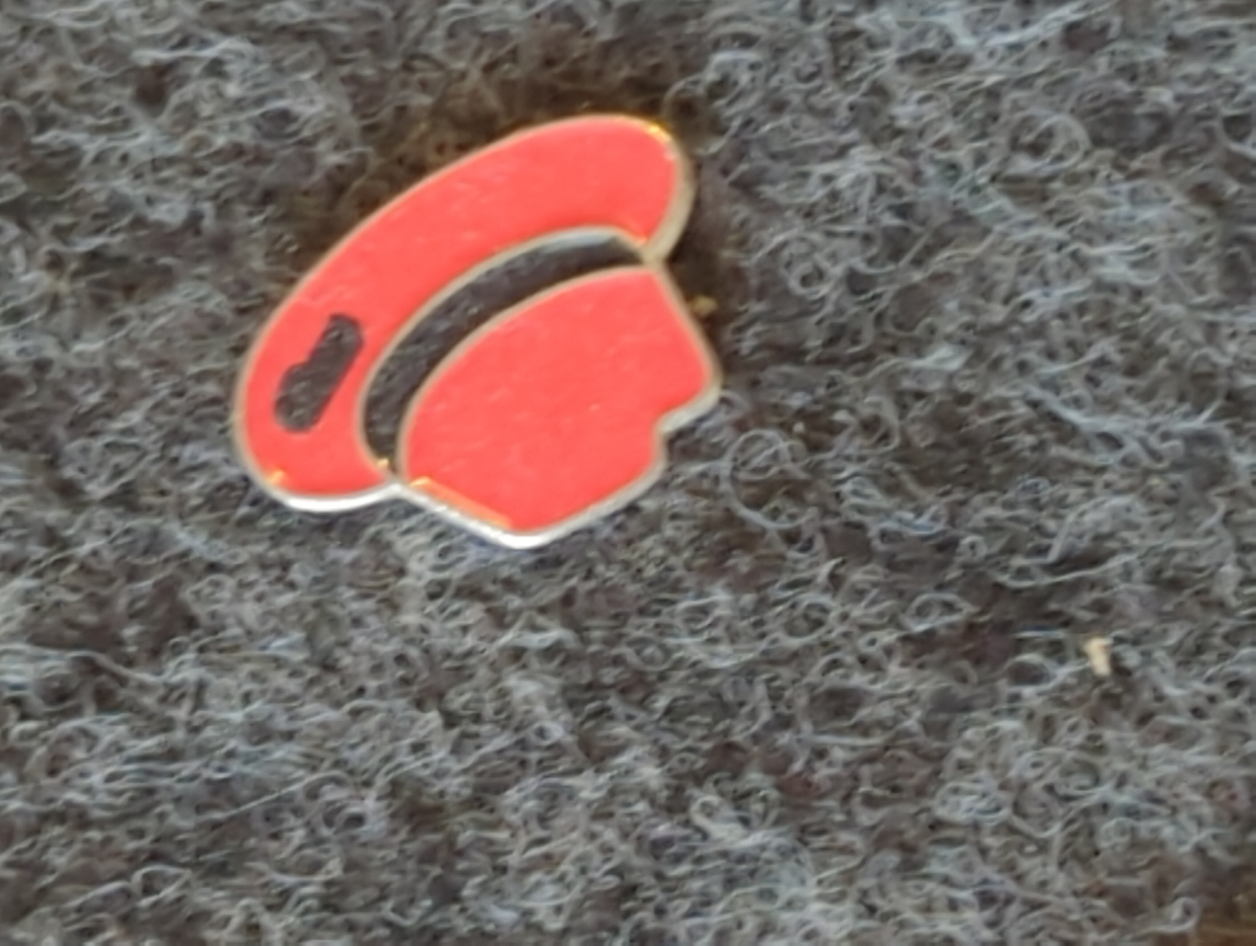Red-Hat: (169, 48, 835, 671)
Scratch: (240, 269, 417, 451)
